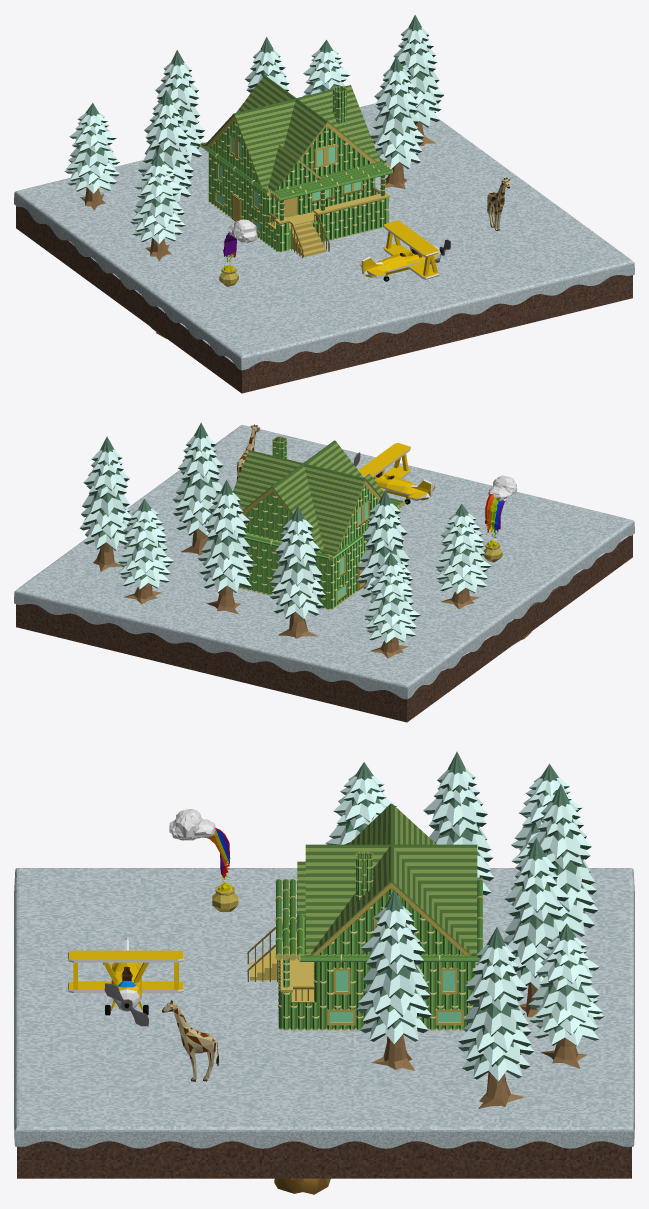
The picture shows the model from 3 angles, top to bottom: view 1: azimuth 30°, elevation 25°; view 2: azimuth 150°, elevation 25°; view 3: azimuth 270°, elevation 25°; orthographic projection. The views are drawn at different scales.
Visible parts, largest first — view 1: Cube.003, Cube.1327, VEHICLES_AIRPLANE, OBJRANDOM_RAINBOW, ANIMAL_JIRAFA; view 2: Cube.003, Cube.1327, VEHICLES_AIRPLANE, OBJRANDOM_RAINBOW; view 3: Cube.003, Cube.1327, VEHICLES_AIRPLANE, OBJRANDOM_RAINBOW, ANIMAL_JIRAFA, UNDERGROUND_T_REX_BONES.
Part boxes in pixels (x1=…): Cube.003: x1=14, y1=15, x2=634, y2=393; Cube.1327: x1=199, y1=75, x2=392, y2=258; VEHICLES_AIRPLANE: x1=359, y1=220, x2=450, y2=281; OBJRANDOM_RAINBOW: x1=219, y1=219, x2=257, y2=286; ANIMAL_JIRAFA: x1=487, y1=177, x2=510, y2=230; Cube.003: x1=14, y1=422, x2=634, y2=722; Cube.1327: x1=233, y1=436, x2=405, y2=609; VEHICLES_AIRPLANE: x1=353, y1=443, x2=434, y2=504; OBJRANDOM_RAINBOW: x1=483, y1=475, x2=517, y2=562; Cube.003: x1=14, y1=751, x2=634, y2=1178; Cube.1327: x1=247, y1=803, x2=483, y2=1030; VEHICLES_AIRPLANE: x1=68, y1=937, x2=183, y2=1026; OBJRANDOM_RAINBOW: x1=169, y1=809, x2=238, y2=911; ANIMAL_JIRAFA: x1=162, y1=1000, x2=218, y2=1081; UNDERGROUND_T_REX_BONES: x1=274, y1=1178, x2=330, y2=1194.
Size of the model in its own units: 4040 by 1805 by 4040.
Materials: 40 (4 with a texture image).
